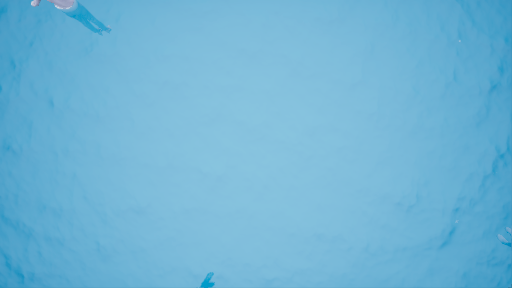person: (26, 1, 121, 37)
